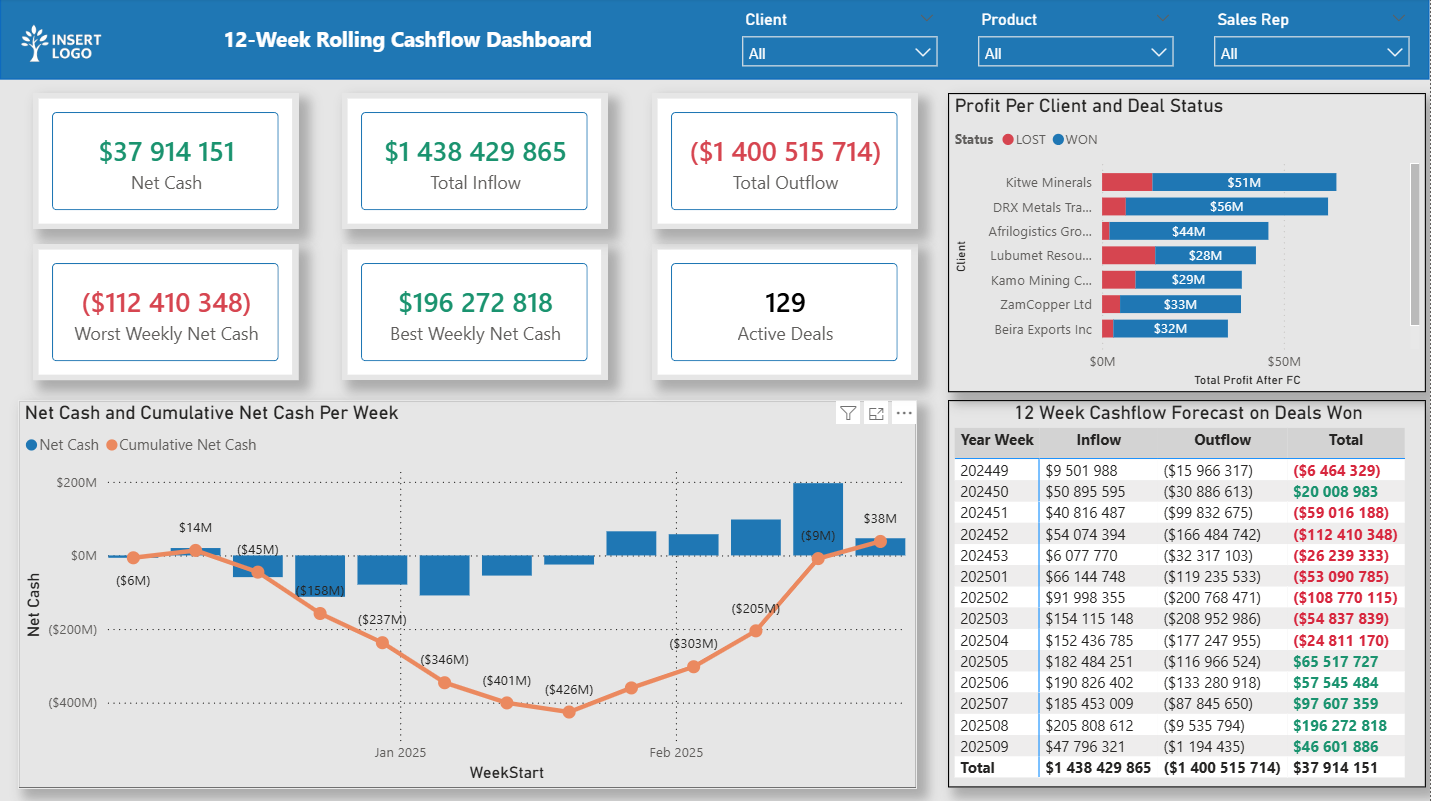

Layout of this report page (visuals, bound fields, positions):
{"tool":"powerbi","page":{"name":"12-Week Rolling Cashflow","canvas":[1280,720],"ordinal":0},"visuals":[{"type":"shape","title":"12-Week Rolling Cashflow Dashboard.","box":[0,0,1280,72.9],"z":0},{"type":"cardVisual","fields":{"Data":["Measure_Tbl.Total Outflow"]},"box":[571.4,85.2,237.7,122],"z":0,"group":"g2"},{"type":"cardVisual","fields":{"Data":["Measure_Tbl.Active Deals"]},"box":[571.4,219.9,237.7,122],"z":0,"group":"g3"},{"type":"cardVisual","fields":{"Data":["Measure_Tbl.Total Inflow"]},"box":[294.3,85.2,237.7,122],"z":1000,"group":"g2"},{"type":"cardVisual","fields":{"Data":["Measure_Tbl.Best Weekly Net Cash"]},"box":[294.3,219.9,237.7,122],"z":1000,"group":"g3"},{"type":"pivotTable","title":"12 Week Cashflow Forecast on Deals Won","fields":{"Columns":["cashflow_12week.type"],"Values":["Sum(cashflow_12week.weekly_amount)"],"Rows":["Calendar.YearWeek"]},"box":[841,359.7,428.4,347],"z":1000},{"type":"cardVisual","fields":{"Data":["Measure_Tbl.Net Cash"]},"box":[17.2,85.2,237.7,122],"z":2000,"group":"g2"},{"type":"cardVisual","fields":{"Data":["Measure_Tbl.Worst Weekly Net Cash"]},"box":[17.2,219.9,237.7,122],"z":2000,"group":"g3"},{"type":"lineStackedColumnComboChart","title":"Net Cash and Cumulative Net Cash Per Week","fields":{"Category":["Calendar.WeekStart"],"Y":["Measure_Tbl.Net Cash"],"Y2":["Measure_Tbl.Cumulative Net Cash"]},"box":[16.5,359.7,804.6,348.3],"z":2000},{"type":"slicer","fields":{"Values":["client.client_name"]},"box":[654.6,5.8,194.5,61.3],"z":3000,"group":"g1"},{"type":"barChart","title":"Profit Per Client and Deal Status","fields":{"Category":["client.client_name"],"Y":["Measure_Tbl.Total Profit After FC"],"Series":["deal_status.status_code"]},"box":[841,85.2,428.4,268.2],"z":3000},{"type":"group","id":"g1","title":"Group 1","box":[654.6,5.8,617.6,61.3],"z":4000},{"type":"slicer","fields":{"Values":["product.product_name"]},"box":[866.2,5.8,194.5,61.3],"z":4000,"group":"g1"},{"type":"image","box":[0,0,110,84.8],"z":5000},{"type":"slicer","fields":{"Values":["sales_rep.sales_rep_name"]},"box":[1077.7,5.8,194.5,61.3],"z":5000,"group":"g1"},{"type":"group","id":"g2","title":"Group 2","box":[17.2,85.2,791.9,122],"z":6000},{"type":"group","id":"g3","title":"Group 2","box":[17.2,219.9,791.9,122],"z":7000}]}

Visuals, with their boxes in screenshot pixels (x1, y1, x2, y2), scaled from the page's 1280x720 canvas onto the 1431x801 screenshot:
"12-Week Rolling Cashflow Dashboard." shape: [0,0,1430,81]
cardVisual - Measure_Tbl.Total Outflow: [639,95,905,231]
cardVisual - Measure_Tbl.Active Deals: [639,245,905,380]
cardVisual - Measure_Tbl.Total Inflow: [329,95,595,231]
cardVisual - Measure_Tbl.Best Weekly Net Cash: [329,245,595,380]
"12 Week Cashflow Forecast on Deals Won" pivotTable: [940,400,1419,786]
cardVisual - Measure_Tbl.Net Cash: [19,95,285,231]
cardVisual - Measure_Tbl.Worst Weekly Net Cash: [19,245,285,380]
"Net Cash and Cumulative Net Cash Per Week" lineStackedColumnComboChart: [18,400,918,788]
slicer - client.client_name: [732,6,949,75]
"Profit Per Client and Deal Status" barChart: [940,95,1419,393]
"Group 1" group: [732,6,1422,75]
slicer - product.product_name: [968,6,1186,75]
image: [0,0,123,94]
slicer - sales_rep.sales_rep_name: [1205,6,1422,75]
"Group 2" group: [19,95,905,231]
"Group 2" group: [19,245,905,380]
